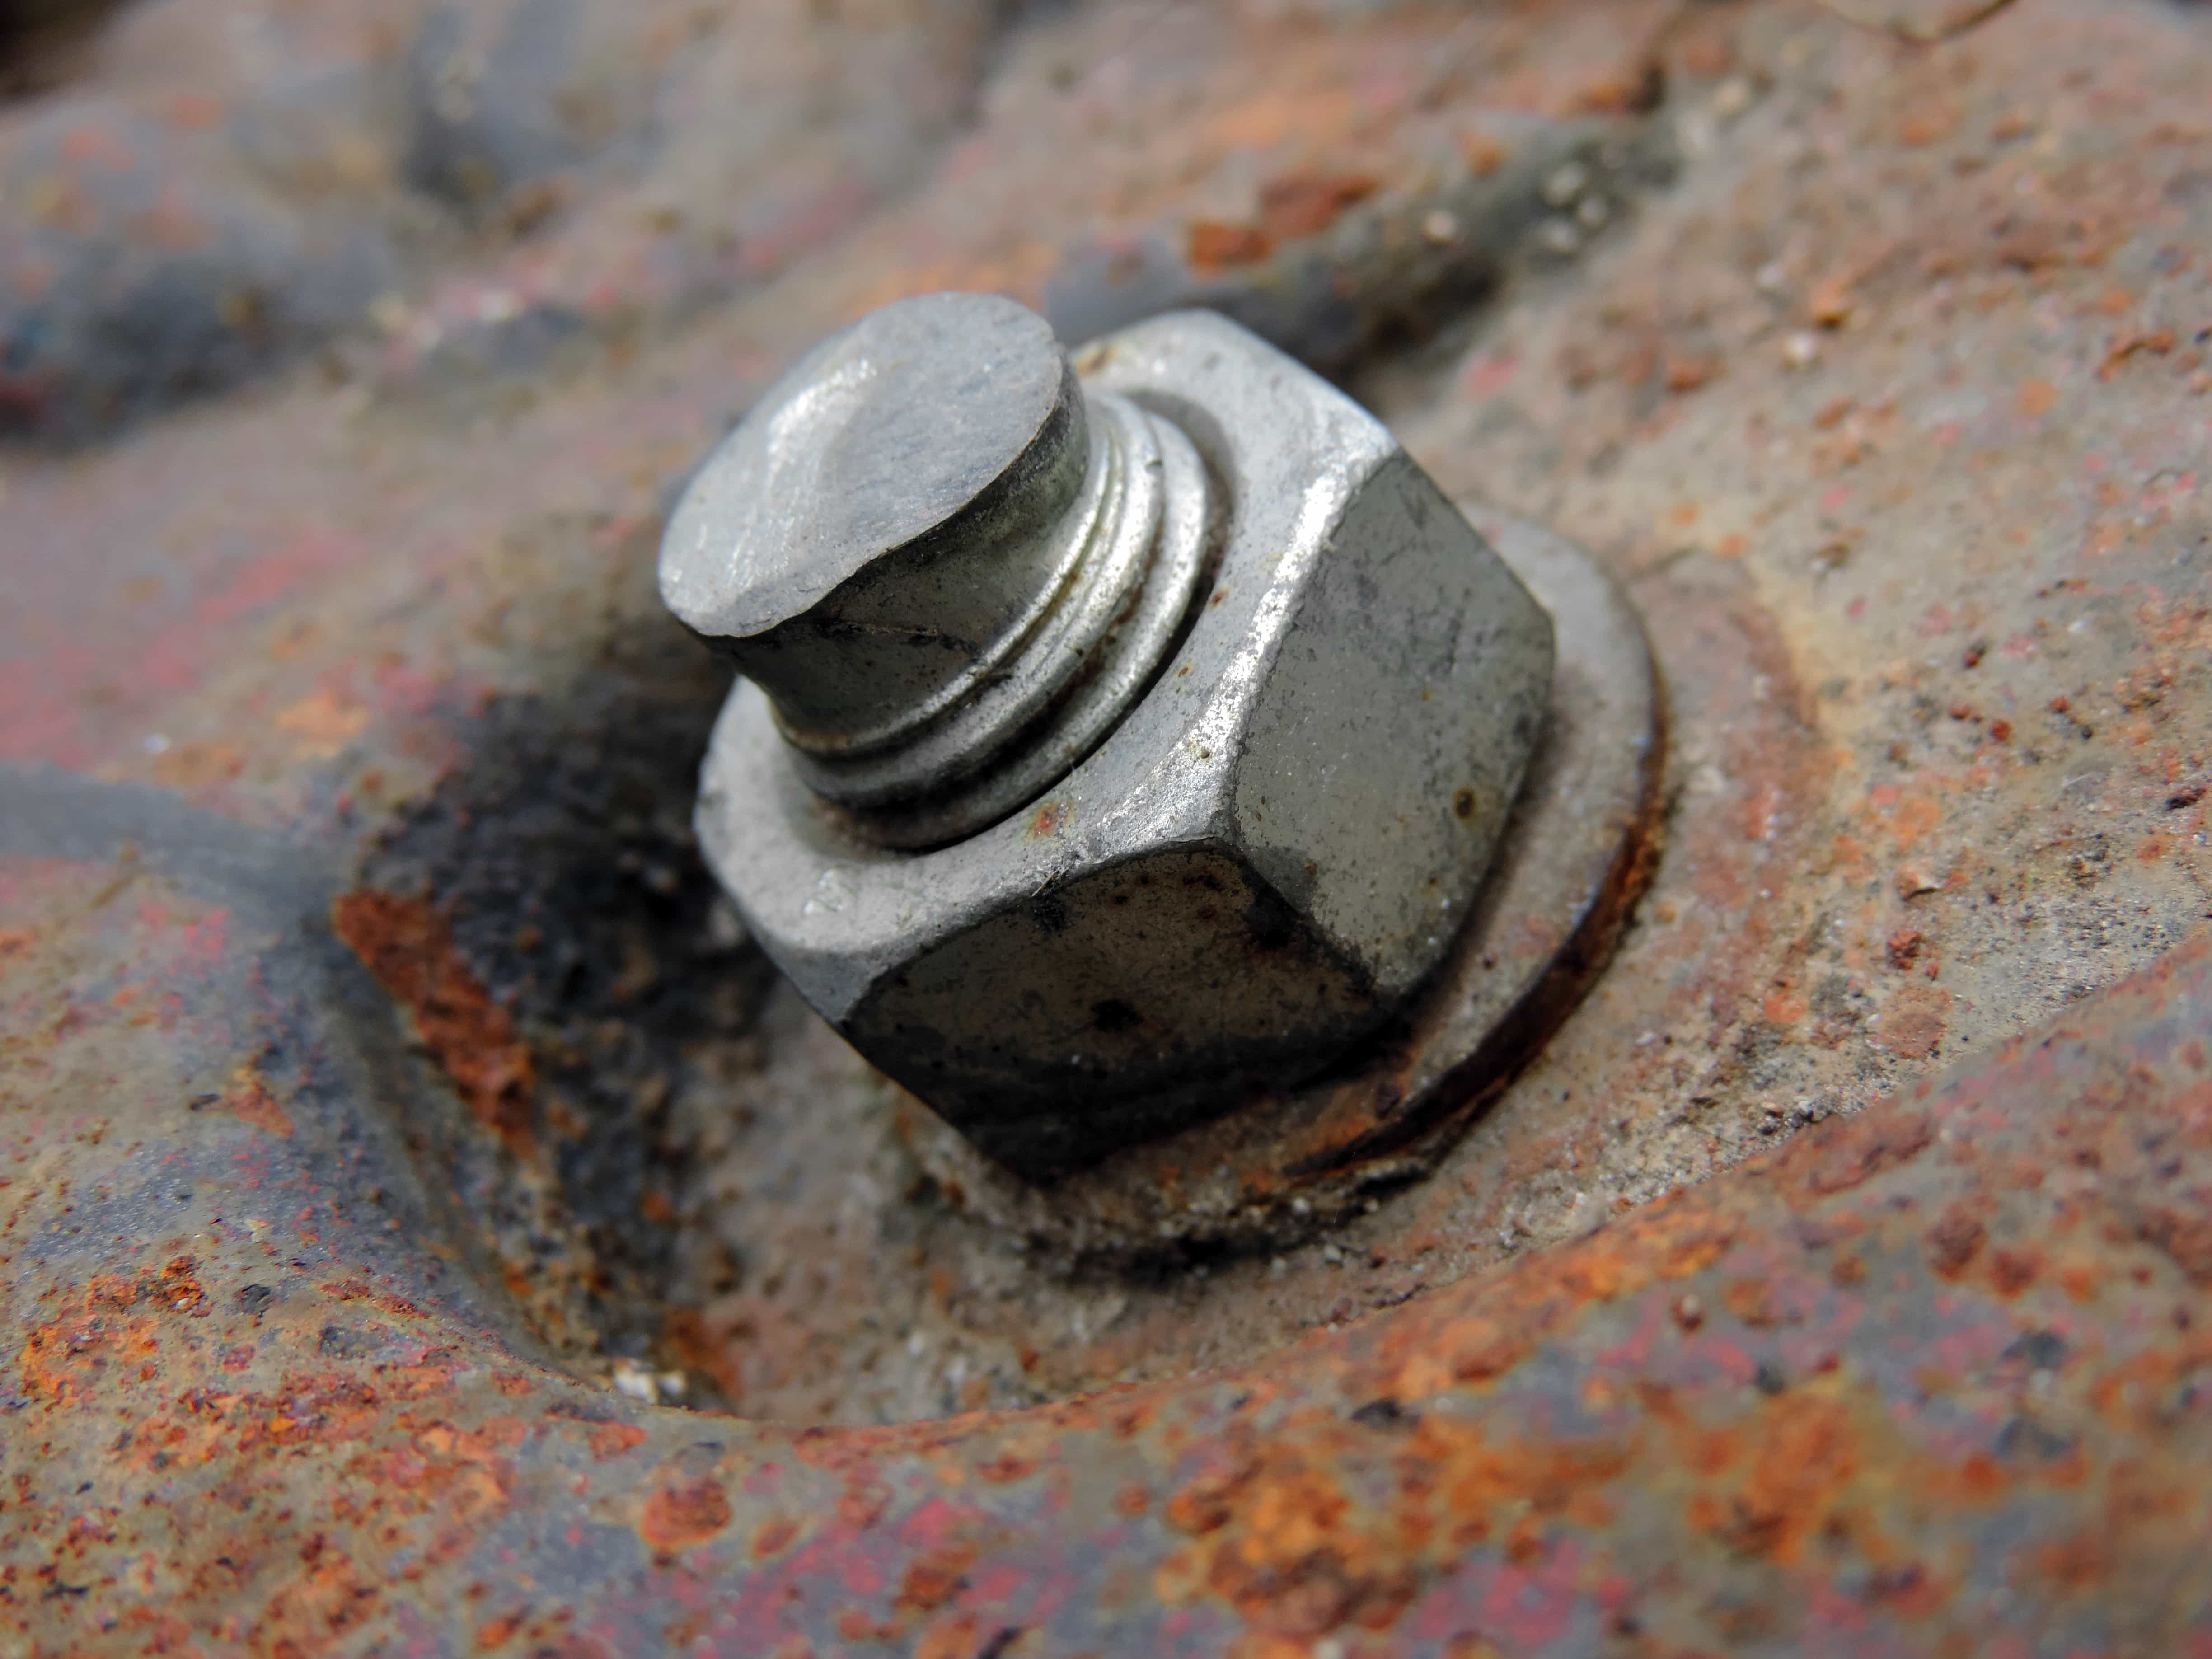bolt_b: (691, 301, 1559, 1175)
